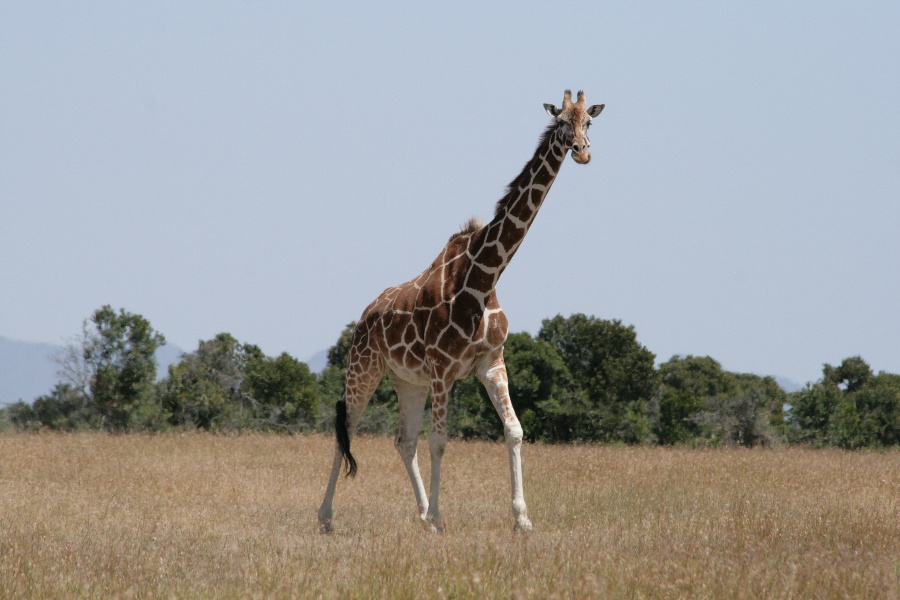giraffe: (306, 75, 614, 539)
